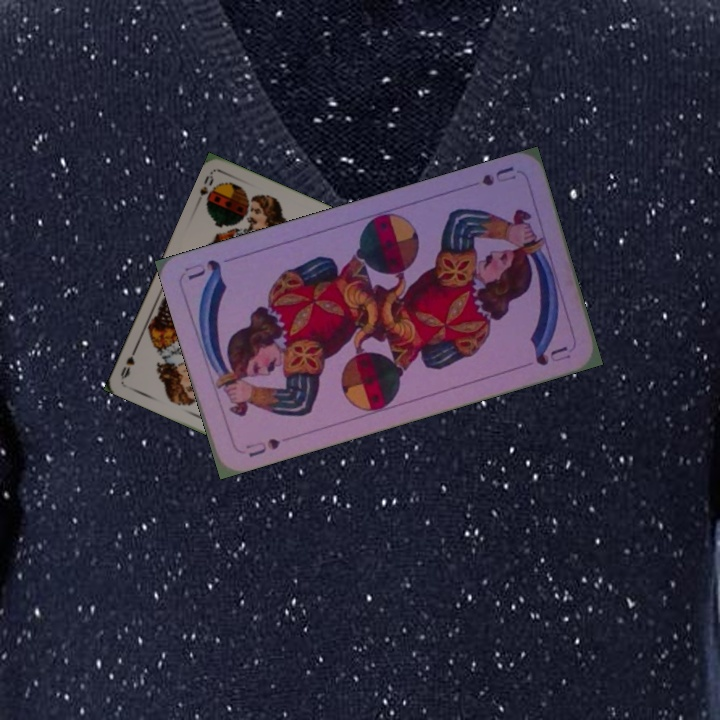SO: (192, 169, 219, 211)
SU: (478, 162, 519, 189), (241, 434, 283, 460)
